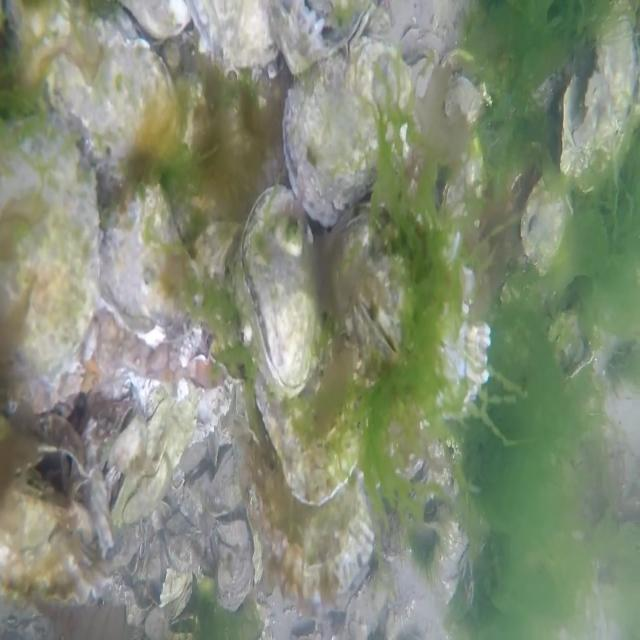Oyster-Closed: (0, 139, 102, 423), (284, 43, 408, 222), (44, 34, 171, 174), (239, 180, 321, 393), (102, 184, 201, 347), (277, 0, 384, 71), (526, 180, 574, 273), (442, 151, 483, 209)
Oyster-Indeterminate: (331, 208, 491, 424), (254, 414, 378, 608), (255, 325, 376, 506), (561, 0, 640, 174), (110, 396, 198, 523), (0, 530, 112, 604), (191, 0, 281, 67), (0, 472, 77, 545), (341, 568, 391, 640), (216, 520, 255, 610), (441, 48, 482, 120), (373, 485, 409, 562), (206, 446, 242, 520)
Oyster-Open: (21, 412, 88, 501), (404, 50, 438, 104), (424, 501, 441, 524)
